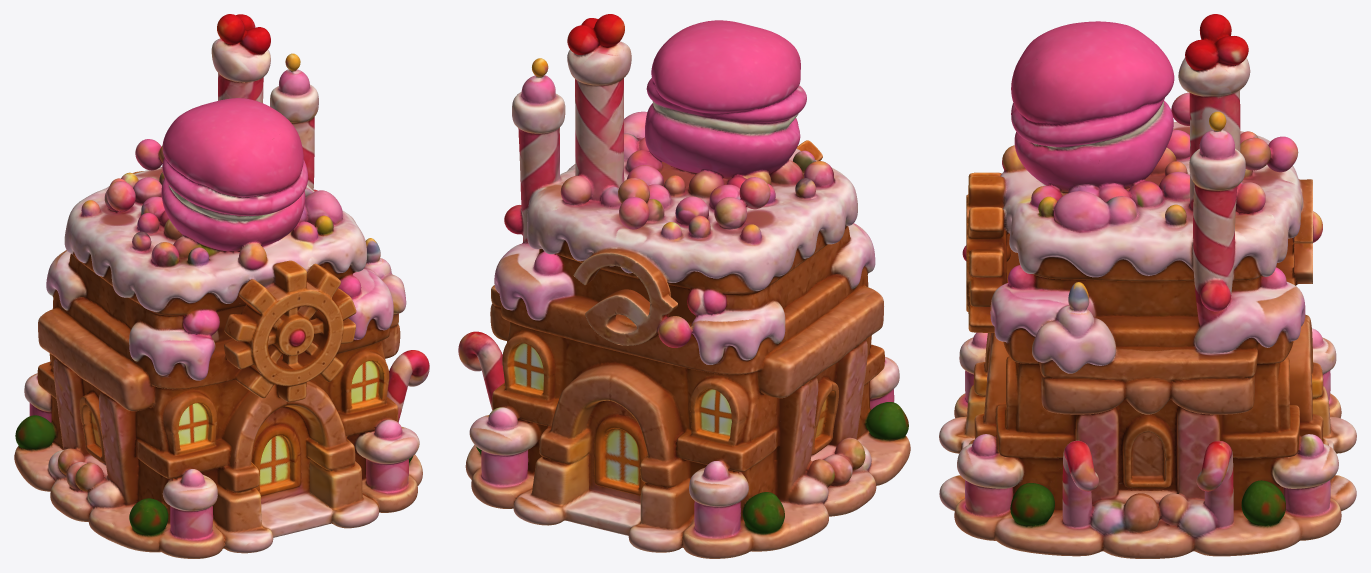
The model's file is Meshy_AI_Candy_Cog_Cottage_20261104_texture.fbx.
The picture shows the model from 3 angles, left to right: view 1: azimuth 30°, elevation 25°; view 2: azimuth 150°, elevation 25°; view 3: azimuth 270°, elevation 25°; orthographic projection. The views are drawn at different scales.
Visible parts, largest first — view 1: Mesh_0; view 2: Mesh_0; view 3: Mesh_0.
Boxes of the visible parts, x1,y1,x2,y2 form: Mesh_0: (14,14,429,558); Mesh_0: (458,14,910,558); Mesh_0: (939,14,1356,558).
Size of the model in its own units: 159 by 190 by 150.
1 material, 1 textured.
